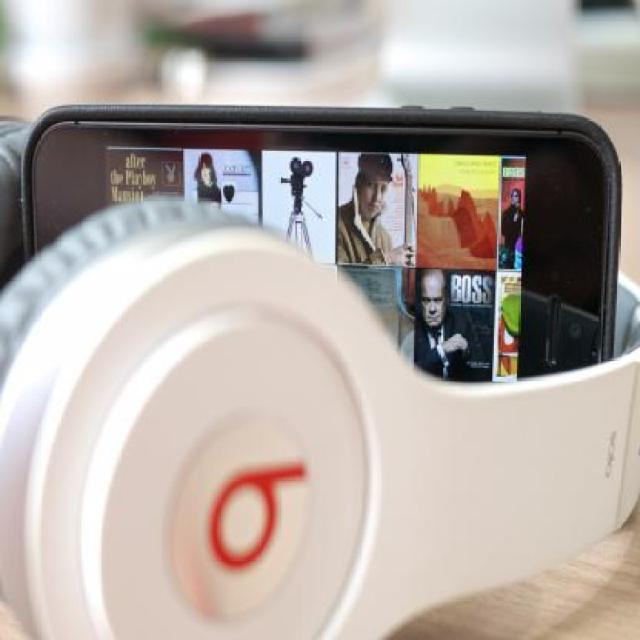earphone: (10, 298, 640, 640)
smart phone: (19, 54, 628, 288)
